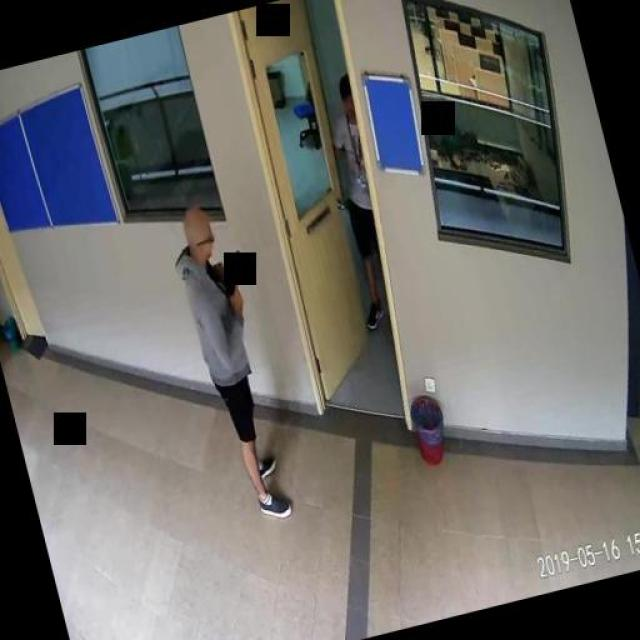gun: (216, 250, 248, 304)
